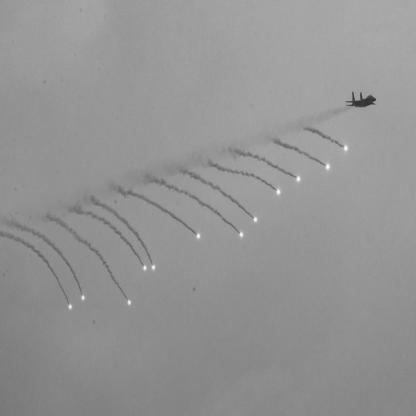F15: (346, 92, 378, 109)
